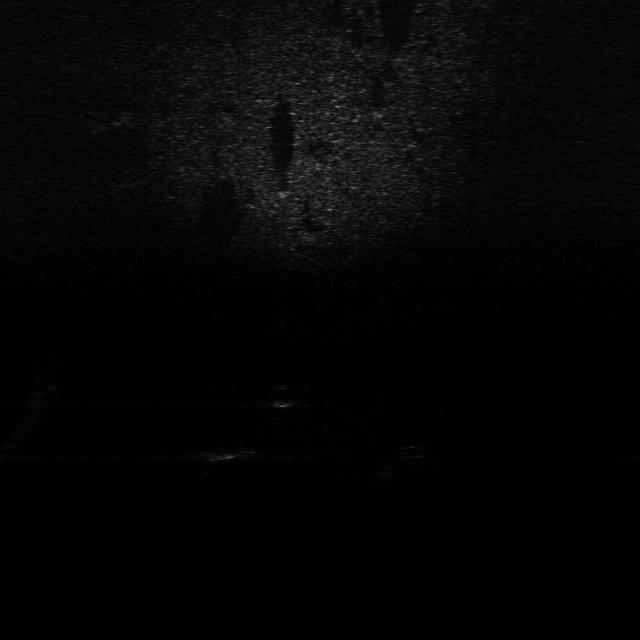ball: (261, 381, 307, 413)
square cage: (193, 442, 262, 466)
tyre: (380, 441, 440, 488)
